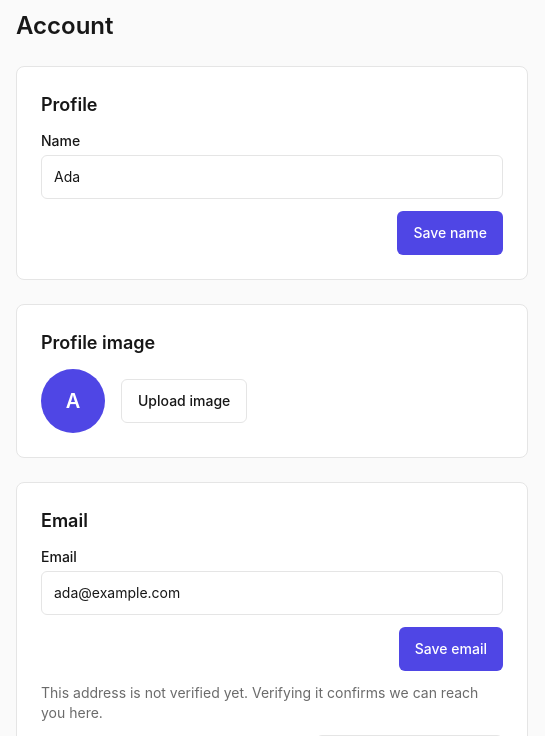
it: Account › shows a taken message on a 409 email conflict
Replace the text in the field labelled "Email" with "taken@example.com" at [272, 593], box [41,571,503,615]
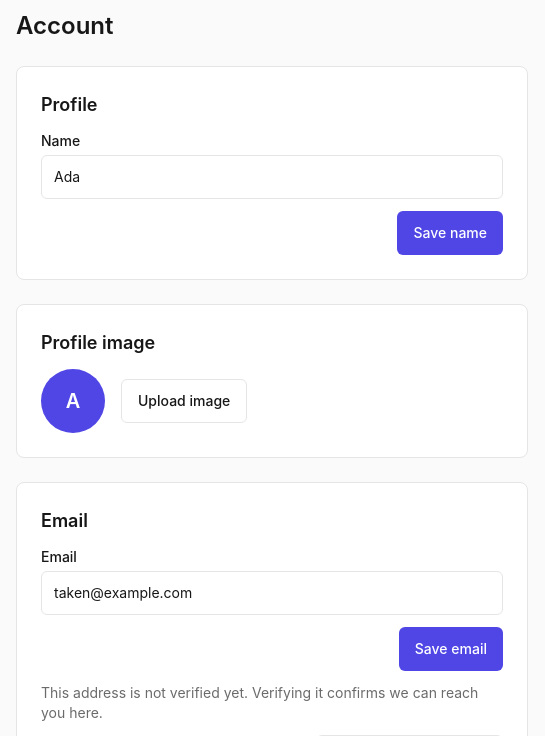
Click the button "Save email".
click(451, 649)  # box [399,627,503,671]
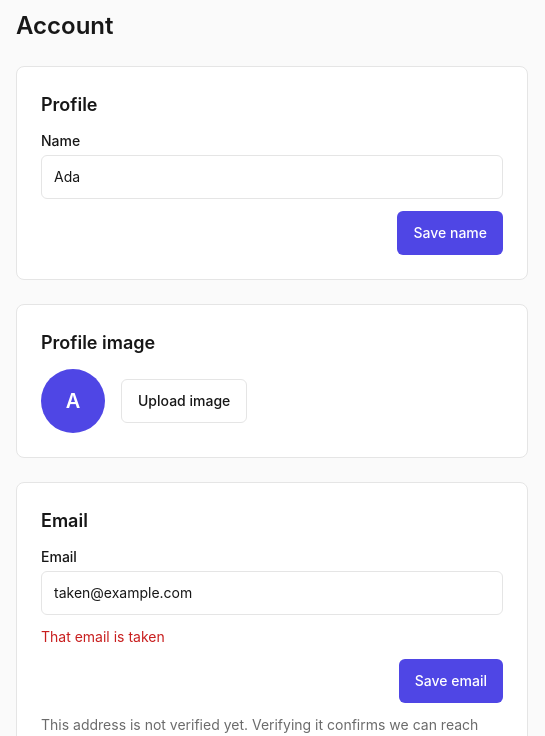
Expected: the text "That email is taken" is shown, [41,628,165,645]
